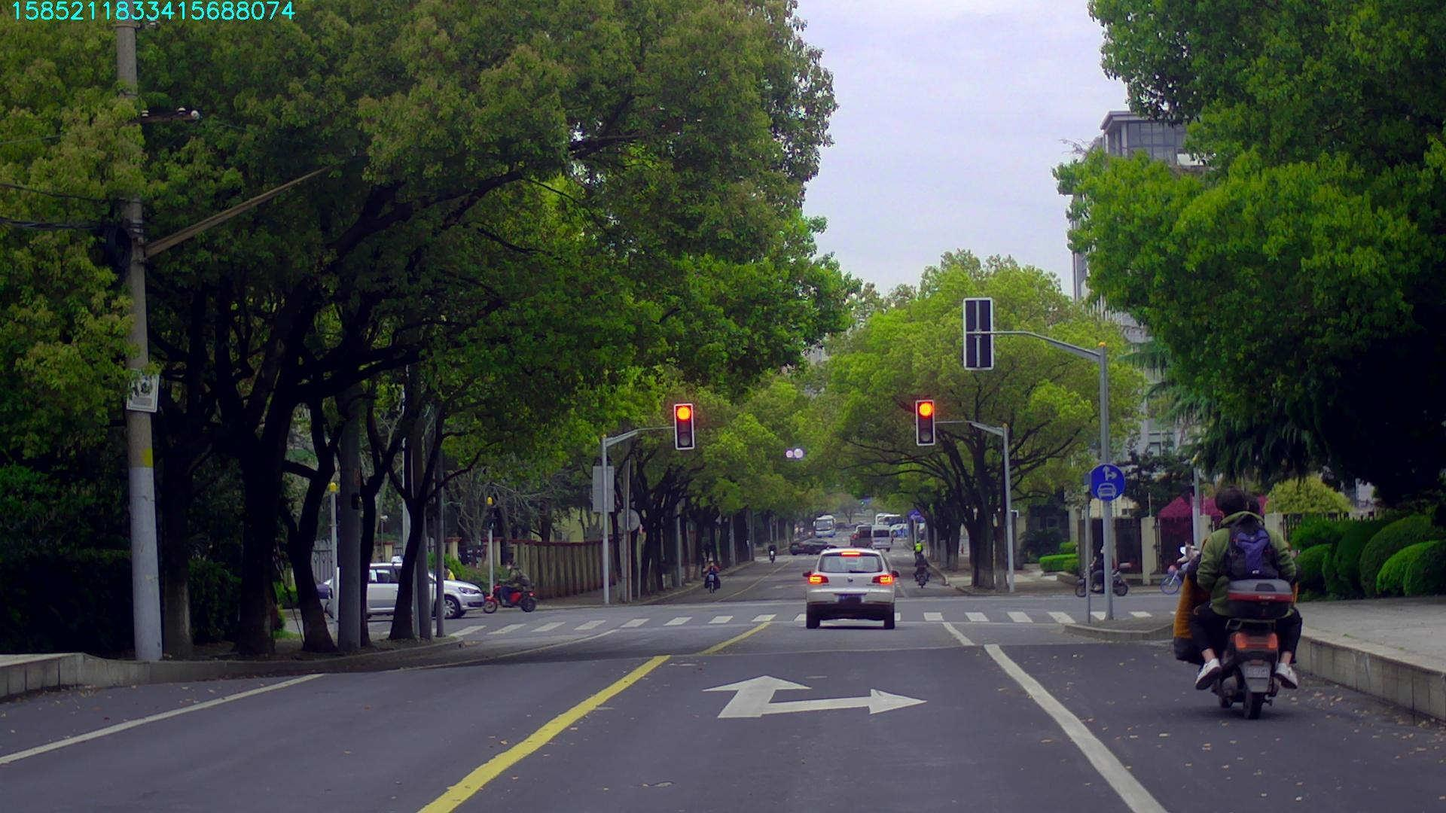red: (674, 404, 694, 448), (917, 400, 934, 444)
